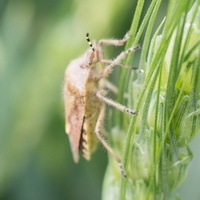insect: (64, 33, 140, 174)
